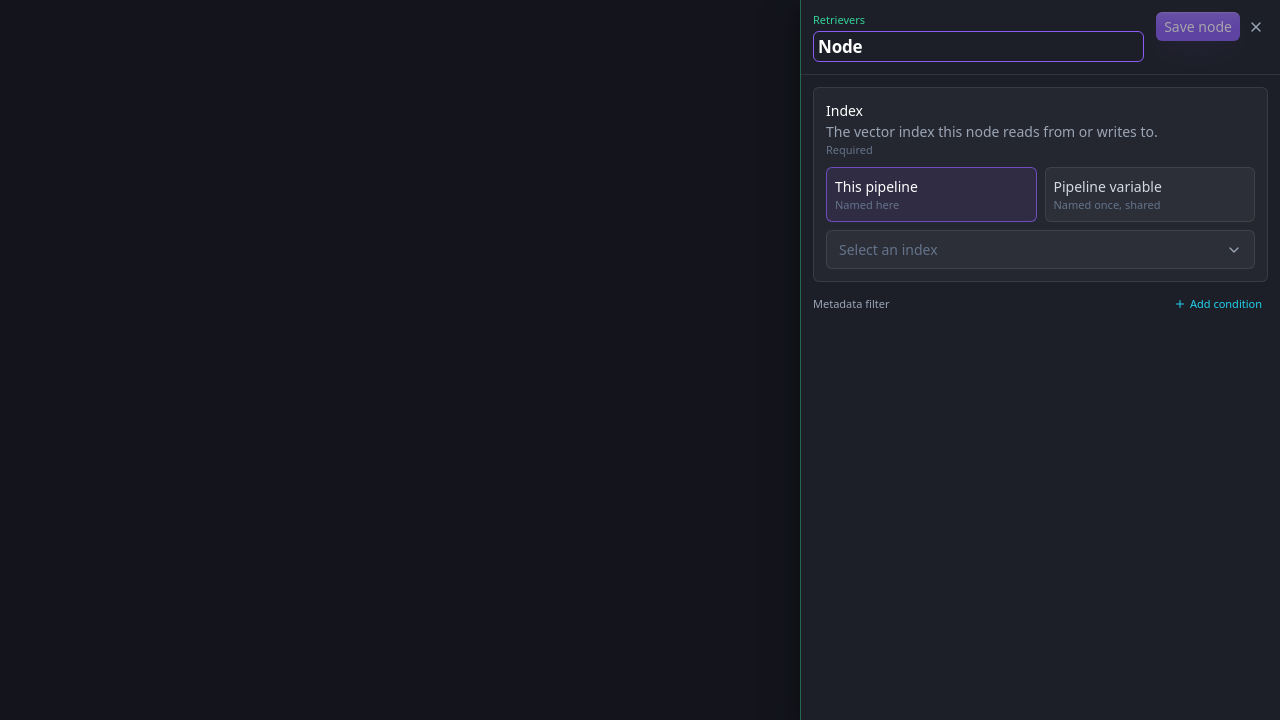
Test: NodeEditorDrawer › legacy backend-pinned nodes get the index picker but no backend picker
This screenshot has width=1280, height=720.
Click the dropdown named "Vector index" at (888, 250), box 826,230 -> 1255,269
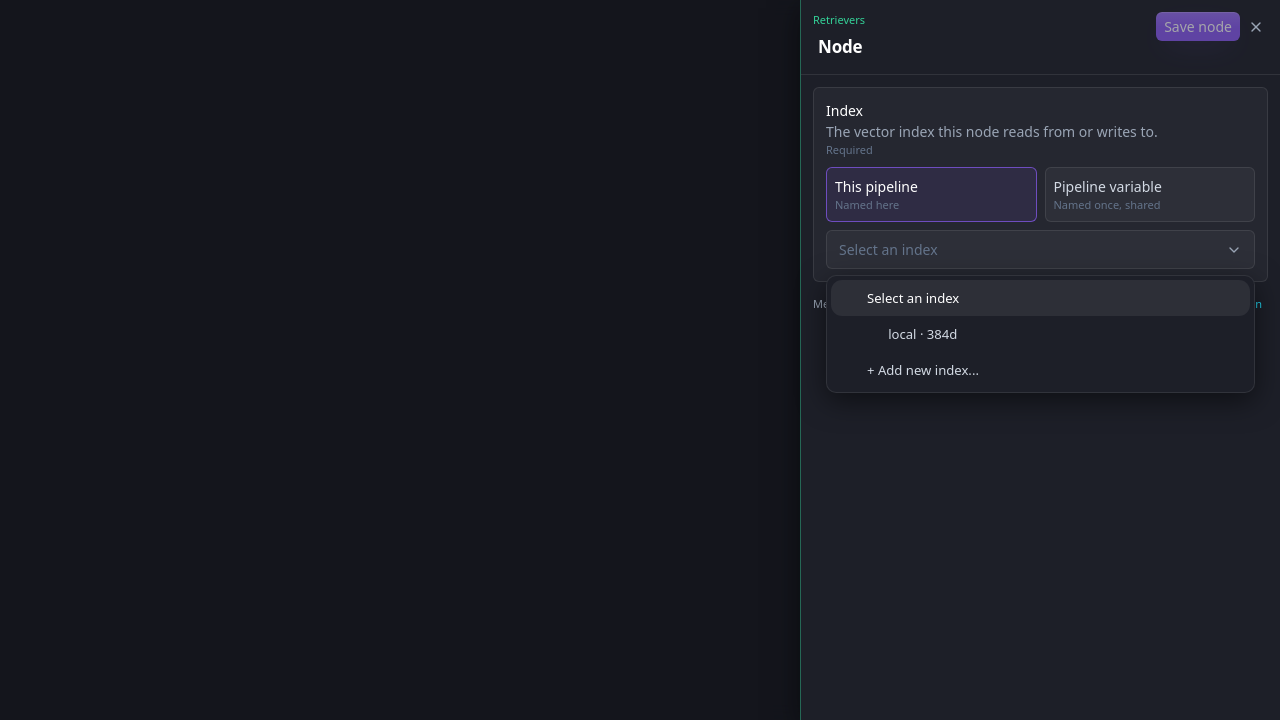
Now the option "local · 384d" is shown, box 888,325 -> 957,343
